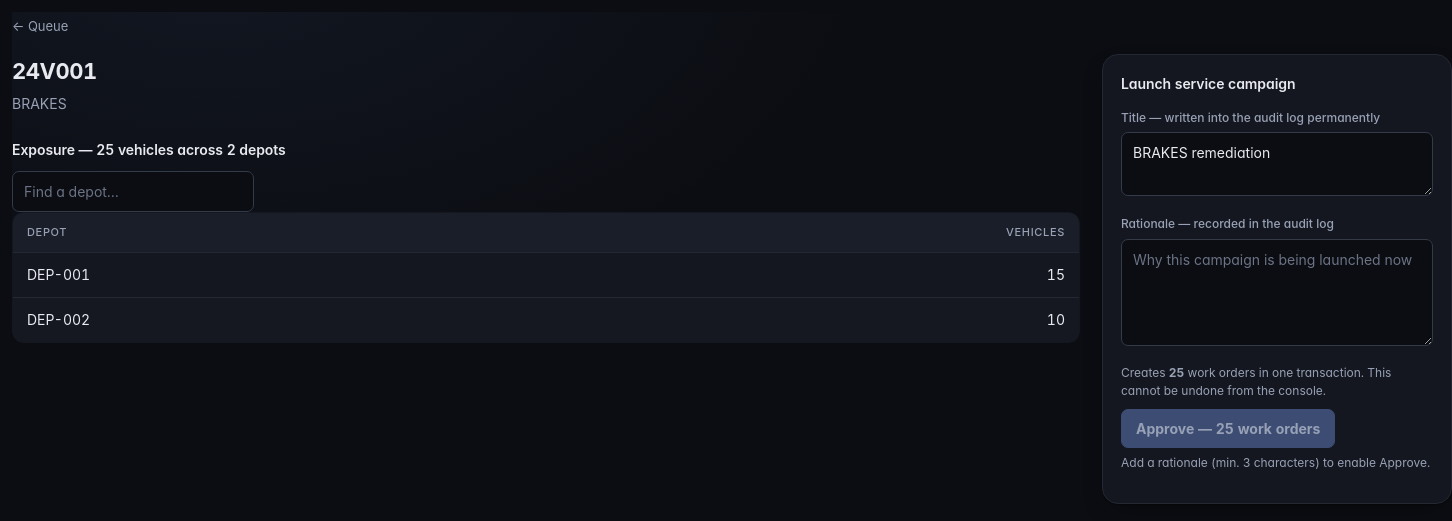
Test: Campaign › disables Approve until both title and rationale are filled
expect the button "Approve — 25 work orders" is disabled: met, box [1121,409,1335,448]
Type "Because it must be done" into the text box labelled "Rationale — recorded in the audit log". click: (1277, 292)
box: [1121,239,1433,346]
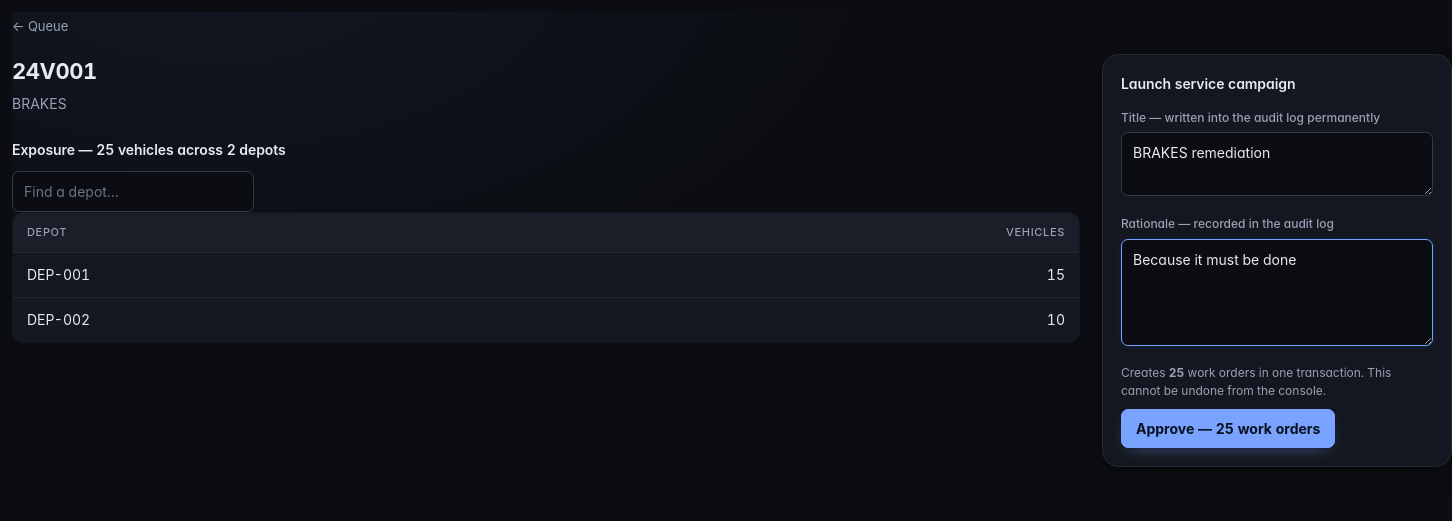
expect the button "Approve — 25 work orders" is enabled: met, box [1121,409,1335,448]
